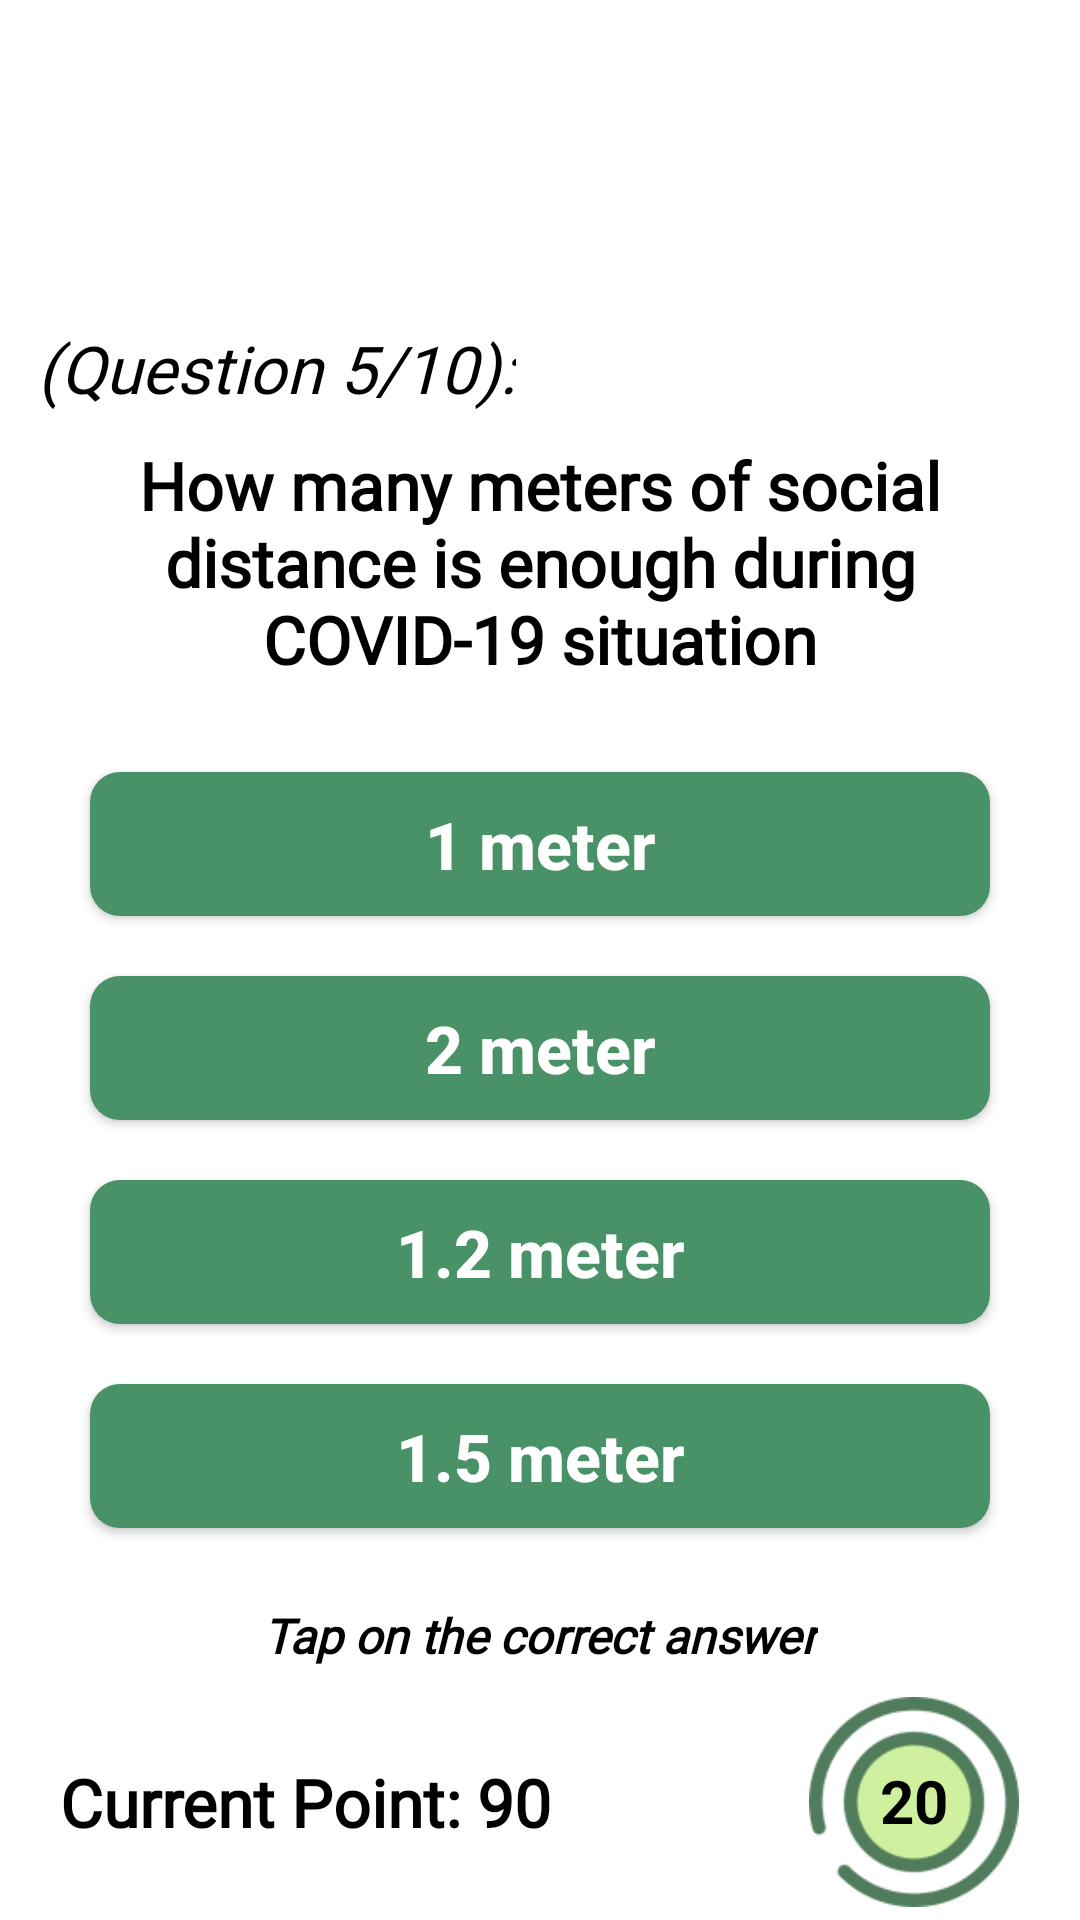

Locate icon controls on the screen. Image size 1080*1920, boxes as [x1,y1,x2,y2].
timer: [809,1697,1019,1907]
